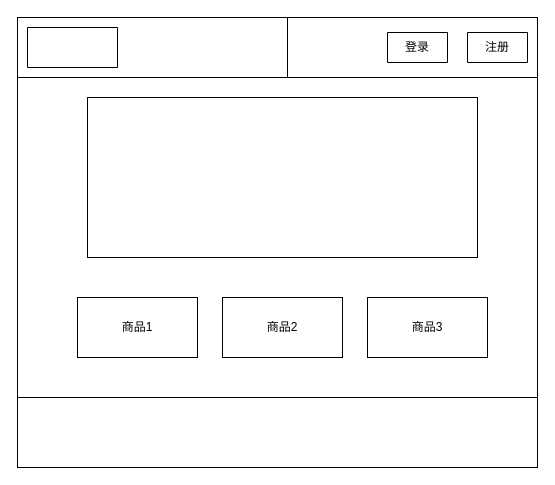
This 555x485 diagram has some shape labels left out. Here are the shapes that lost their labels. From the top down, the centre of each, then its label:
pixel 72 47: LOGO
pixel 282 177: 轮播图
pixel 277 432: footer
